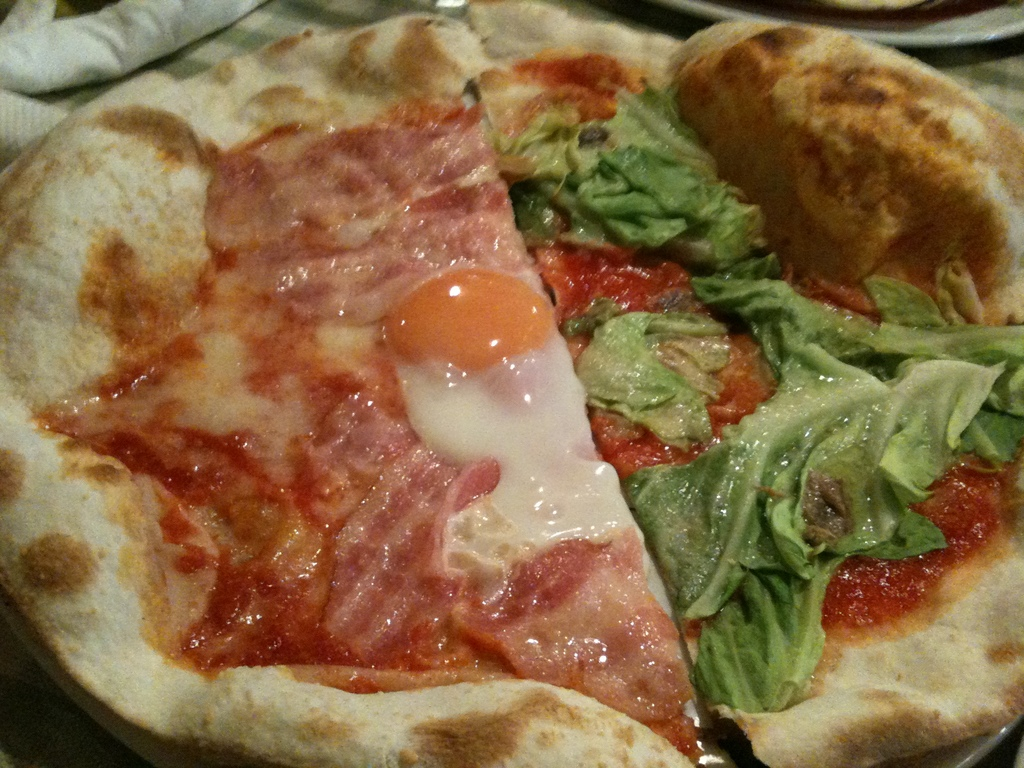Pizza: (0, 8, 1024, 768)
